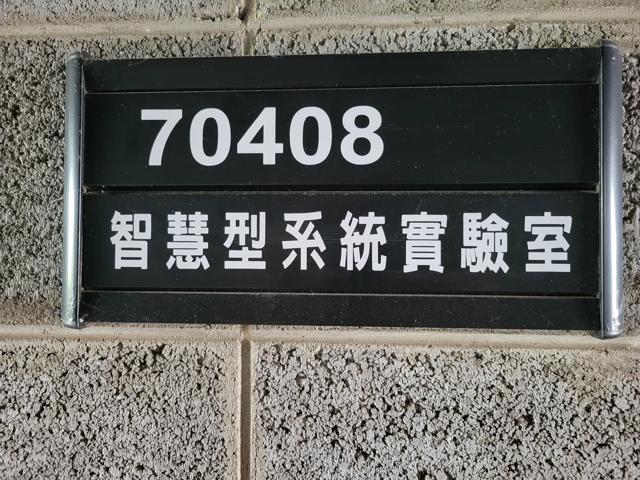doorplate: (53, 39, 627, 340)
